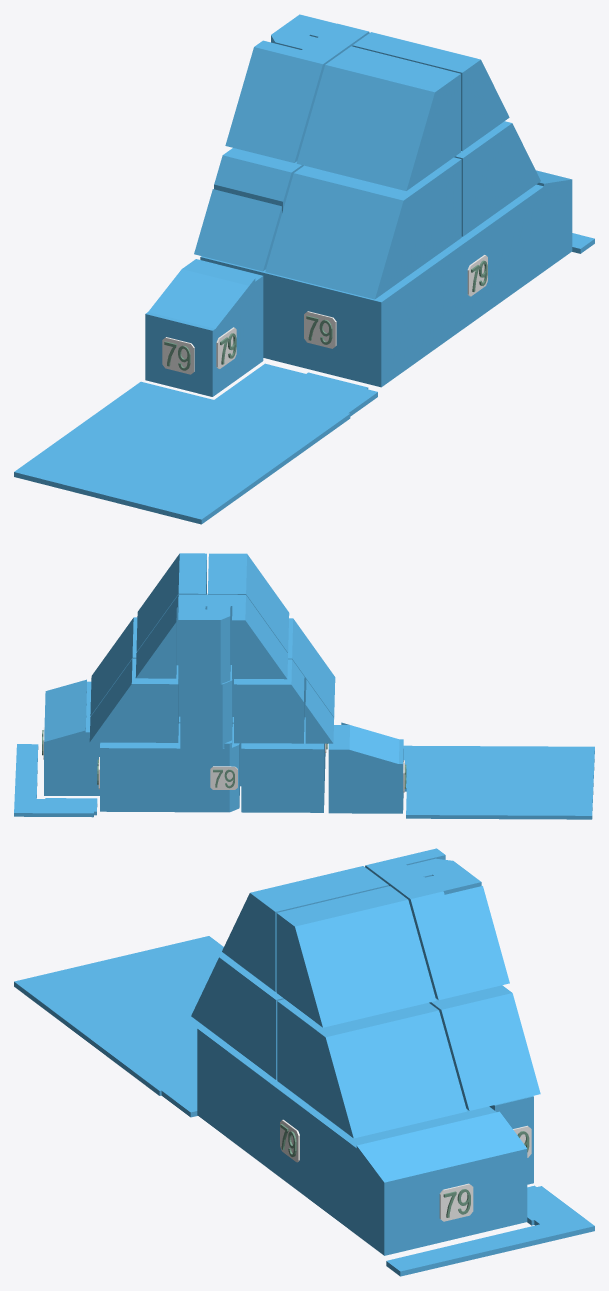
3 views of the same model, one above another, from view 1: azimuth 30°, elevation 25°; view 2: azimuth 150°, elevation 25°; view 3: azimuth 270°, elevation 25° (orthographic). The views are drawn at different scales.
Parts seen in each view (by area): view 1: g_19, g_7, g_10, g_0, g_1, g_5, g_15, g_8, g_16, g_11, g_6, g_14 (+2 smaller); view 2: g_19, g_15, g_5, g_0, g_1, g_9, g_2, g_6, g_14, g_4, g_10, g_13 (+7 smaller); view 3: g_1, g_8, g_19, g_11, g_15, g_9, g_10, g_7, g_0, g_18, g_17, g_14 (+2 smaller).
Part boxes in pixels (x1,y1,x2,y2): g_19: (14, 363, 377, 524); g_7: (265, 157, 461, 299); g_10: (296, 46, 460, 190); g_0: (200, 256, 438, 387); g_1: (431, 170, 572, 346); g_5: (145, 259, 263, 396); g_15: (225, 23, 369, 162); g_8: (454, 121, 540, 236); g_16: (194, 189, 281, 271); g_11: (352, 32, 509, 151); g_6: (214, 148, 303, 212); g_14: (271, 14, 336, 49); g_19: (403, 745, 594, 819); g_15: (135, 594, 287, 679); g_5: (328, 722, 403, 813); g_0: (241, 717, 325, 812); g_1: (44, 679, 240, 795); g_9: (89, 658, 178, 742); g_2: (100, 723, 180, 812); g_6: (234, 659, 304, 743); g_14: (178, 606, 230, 679); g_4: (177, 723, 239, 812); g_10: (207, 553, 289, 652); g_13: (180, 666, 232, 743); g_1: (253, 1068, 527, 1255); g_8: (277, 999, 466, 1138); g_19: (14, 936, 226, 1117); g_11: (276, 886, 436, 1027); g_15: (365, 848, 509, 1000); g_9: (429, 985, 540, 1110); g_10: (222, 866, 388, 991); g_7: (191, 955, 284, 1079); g_0: (197, 1027, 260, 1156); g_18: (386, 1224, 554, 1276); g_17: (527, 1185, 594, 1240); g_14: (407, 858, 481, 894).
Size of the model in its own units: 21.37 by 7.94 by 15.63.
